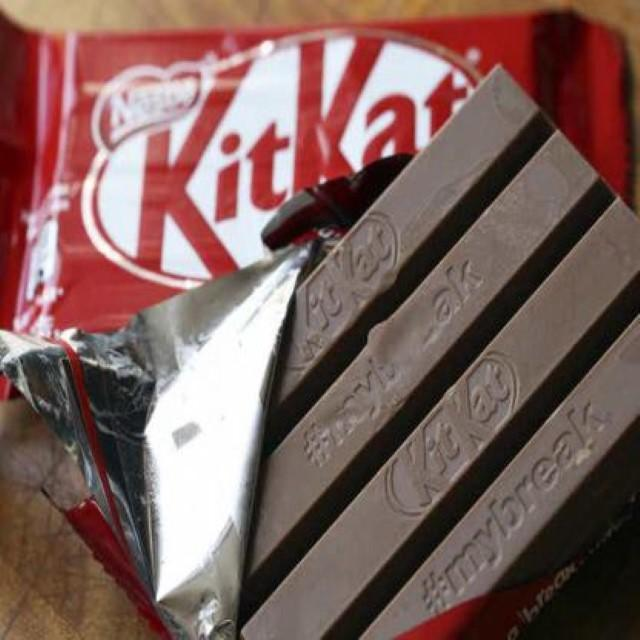kitkat_chocolate: (29, 22, 588, 280)
